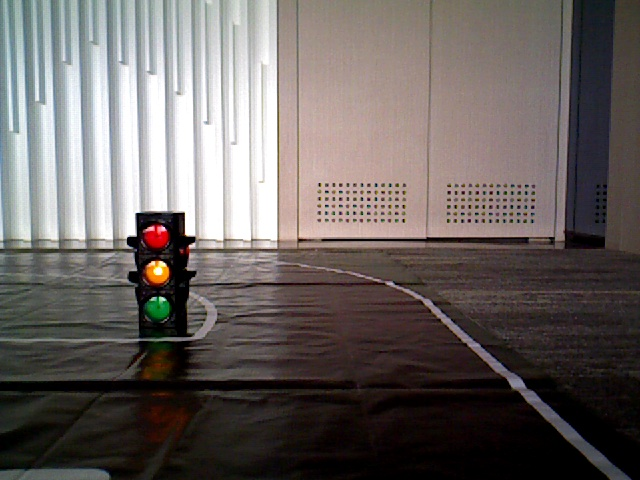yellow: (138, 219, 175, 326)
